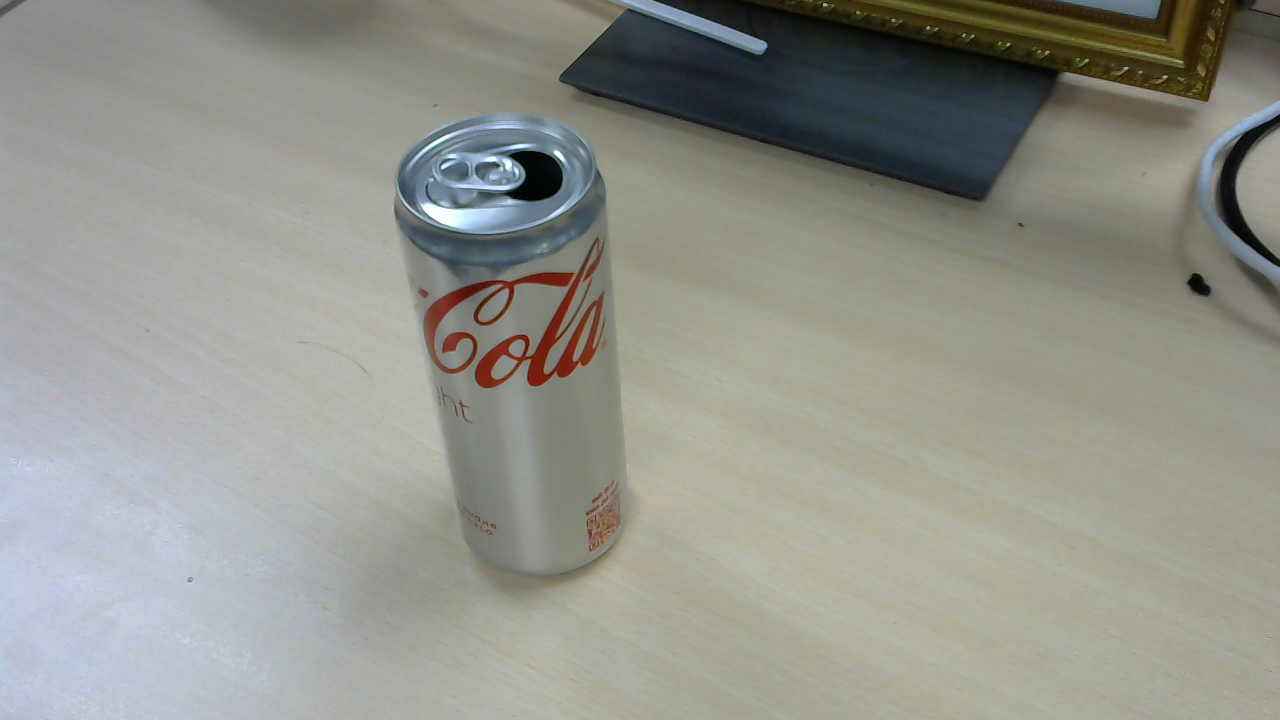Coca_Cola: (399, 118, 640, 587)
